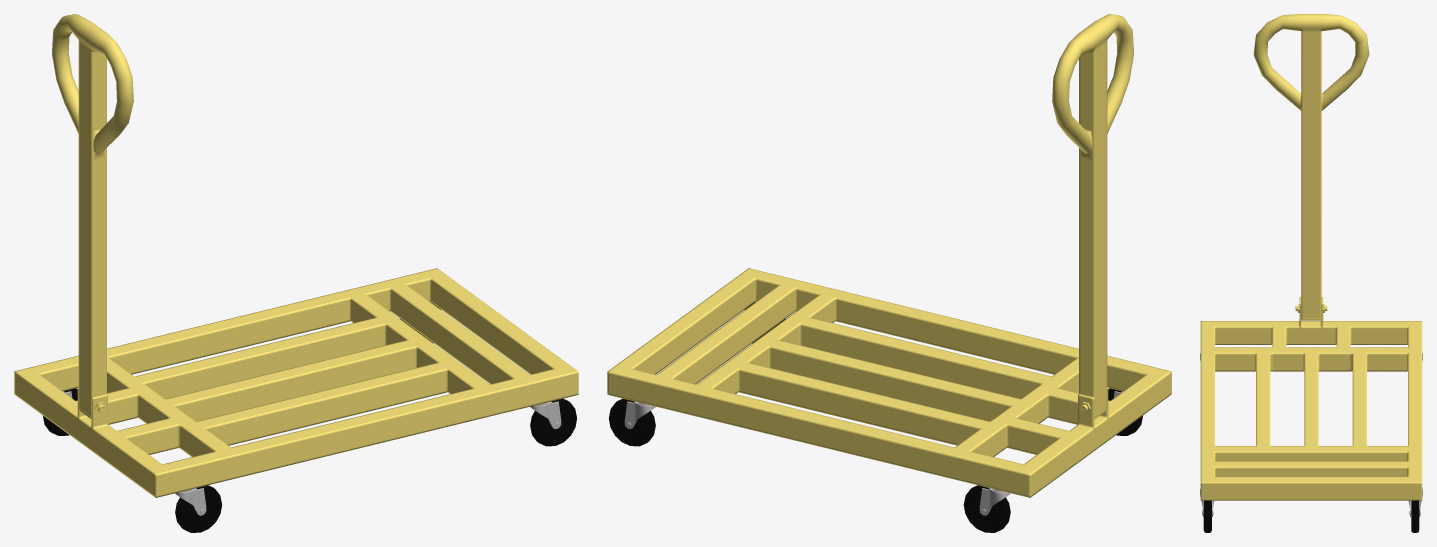
Rendered from hand_truck_yellow.glb.
The picture shows the model from 3 angles, left to right: view 1: azimuth 30°, elevation 25°; view 2: azimuth 150°, elevation 25°; view 3: azimuth 270°, elevation 25°; orthographic projection. The views are drawn at different scales.
Visible parts, largest first — view 1: Object_2, Object_3, Object_4; view 2: Object_2, Object_3, Object_4; view 3: Object_2, Object_3.
Part boxes in pixels (left/top/right/bottom): Object_2: left=14, top=14, right=578, bottom=497; Object_3: left=42, top=302, right=576, bottom=532; Object_4: left=63, top=391, right=561, bottom=515; Object_2: left=607, top=14, right=1171, bottom=497; Object_3: left=608, top=302, right=1142, bottom=532; Object_4: left=624, top=391, right=1122, bottom=515; Object_2: left=1200, top=14, right=1422, bottom=500; Object_3: left=1203, top=500, right=1419, bottom=532.
Bounding box in the file's own units: 95.77 × 100 × 55.33.
